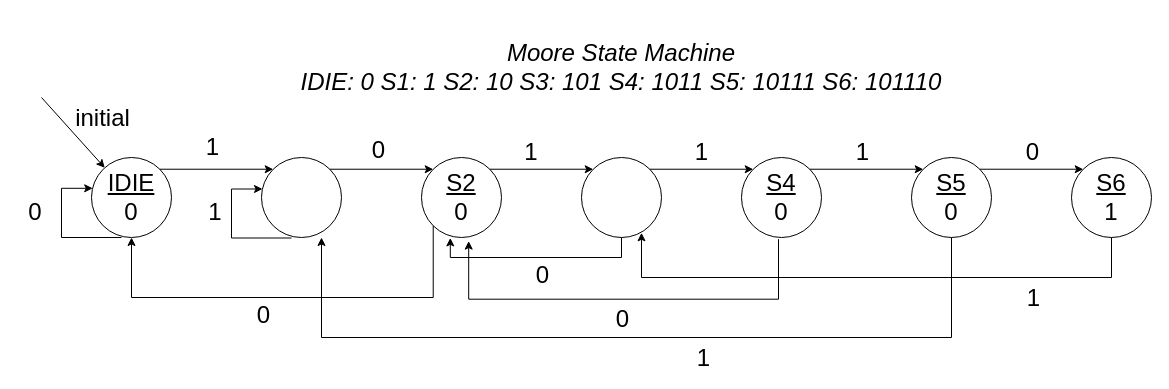
This 1169x389 diagram has some shape labels left out. Here are the shapes that lost their labels. From the top down, the box of each, then its label:
(260, 156, 342, 238): S1 0
(580, 156, 662, 238): S3 0
